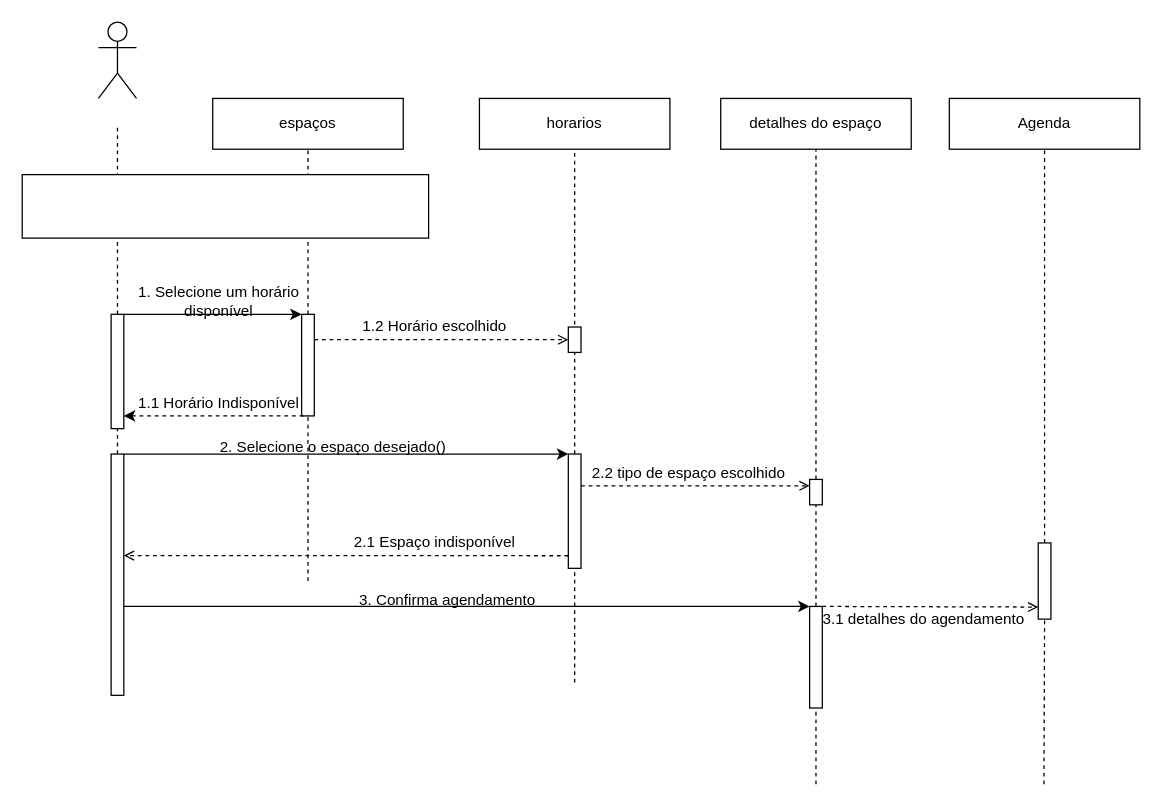
Some shapes in this 1162 by 808 pixel diagram are drawn without their labels. Each missing label, with the box of its shape:
Cliente: (97, 21, 137, 98)
Consultar disponibilidade de agenda: (21, 173, 429, 238)
